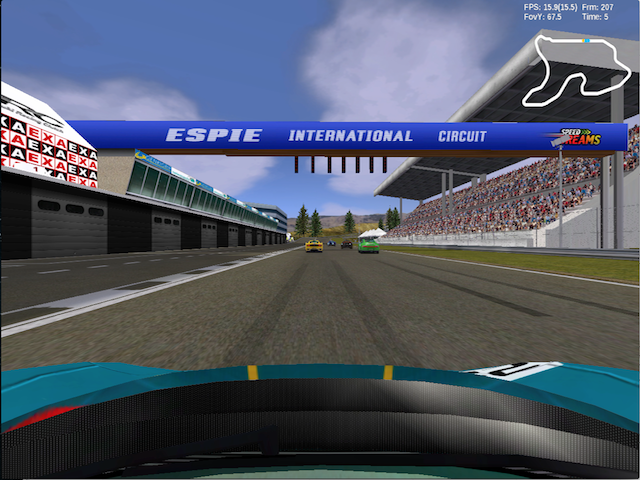Boxer96: (357, 239, 380, 254)
Cavallo360: (304, 240, 324, 253)
Spirit300: (340, 242, 354, 250)
